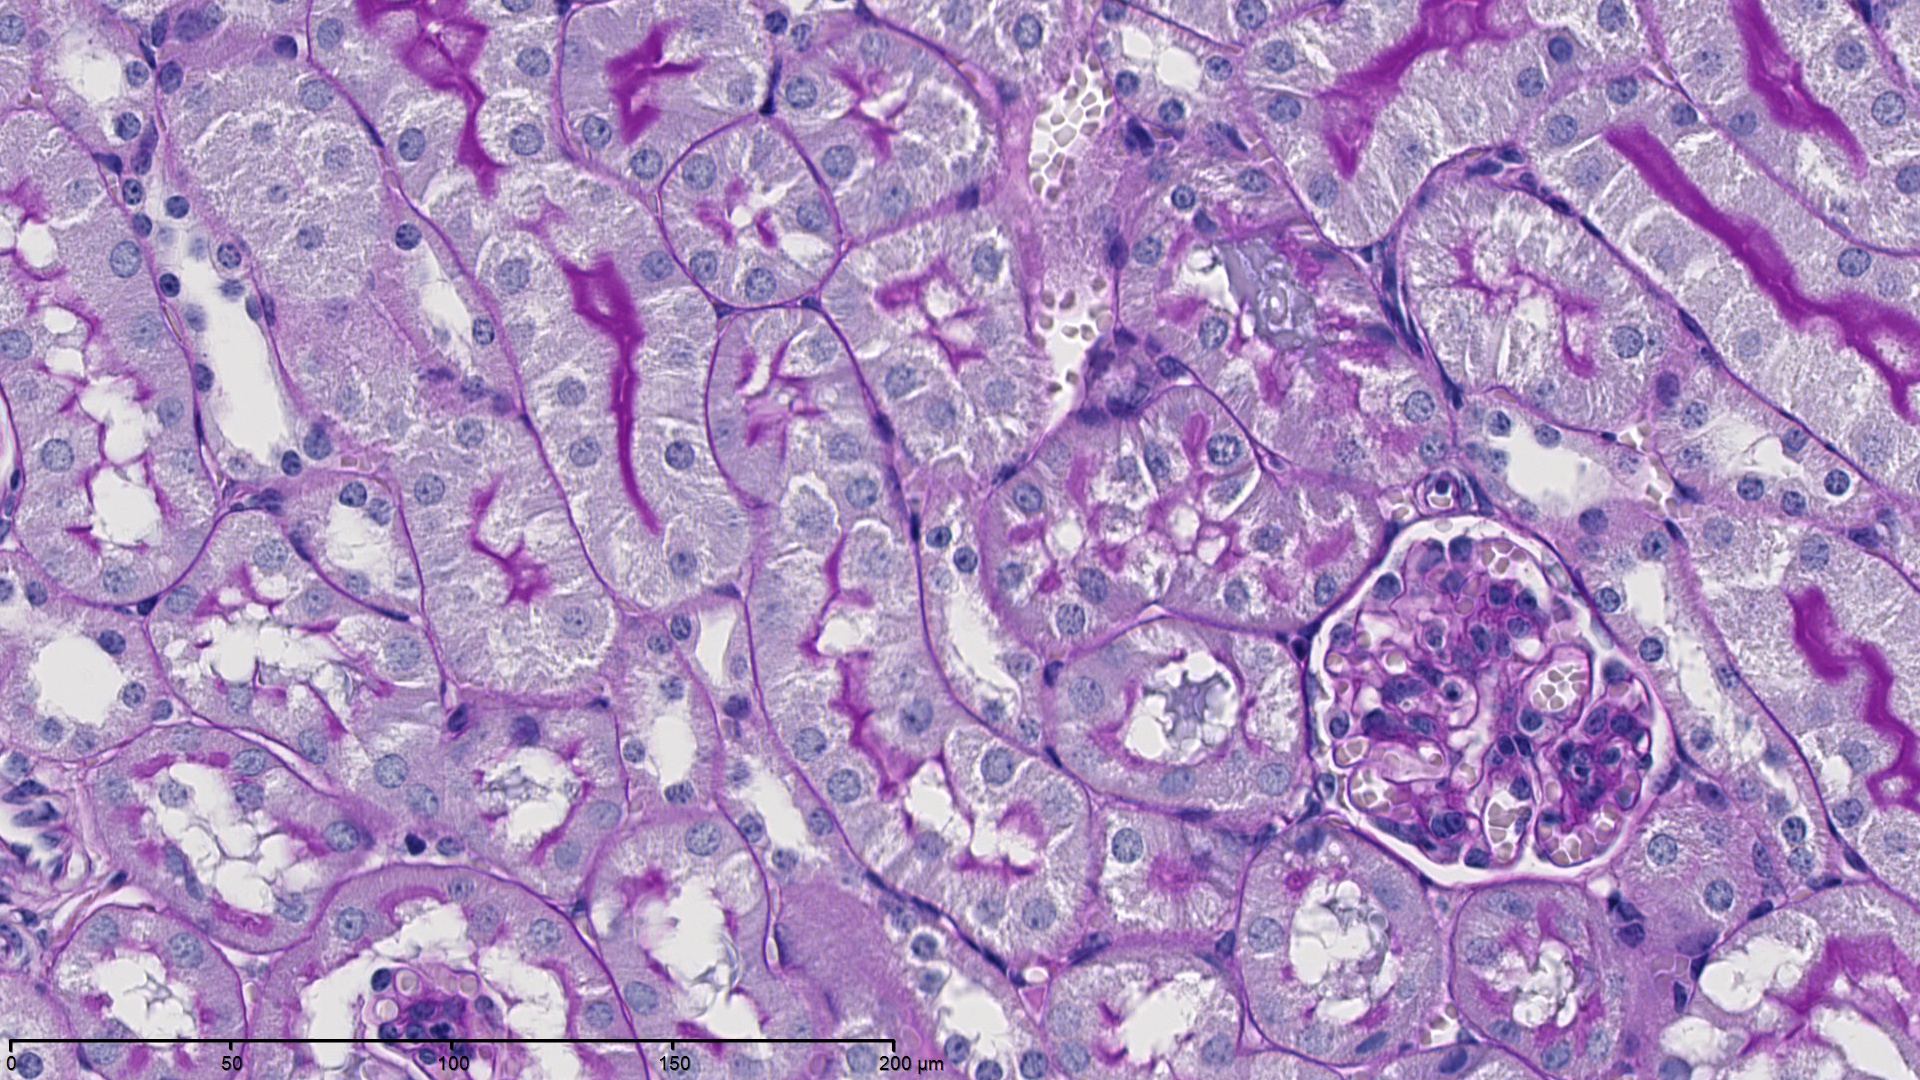Glomeruli: (1298, 518, 1687, 887)
